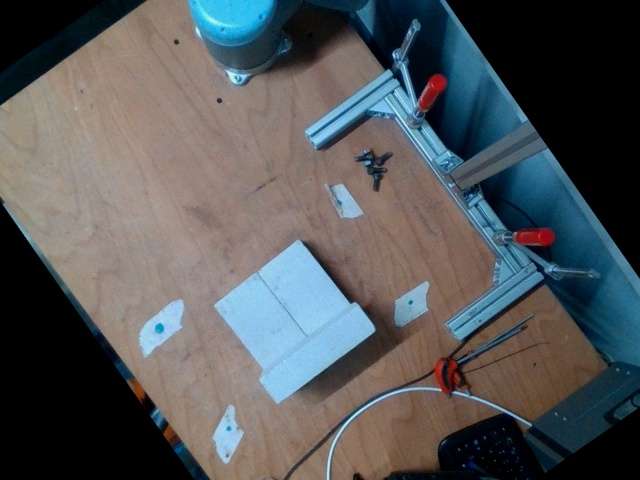brick-side: (258, 305, 375, 404)
